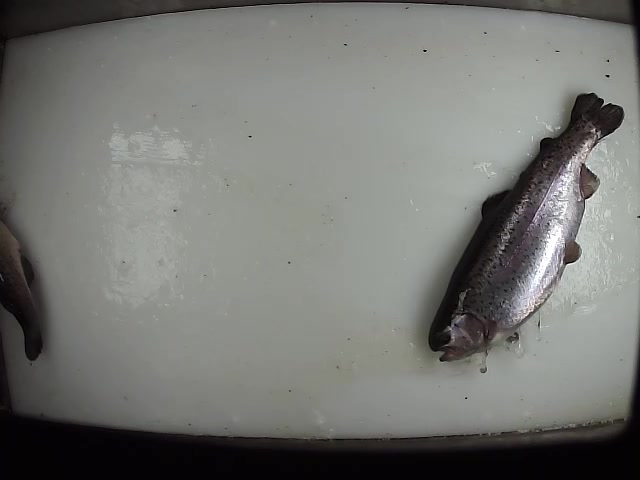fish: (426, 88, 627, 365)
